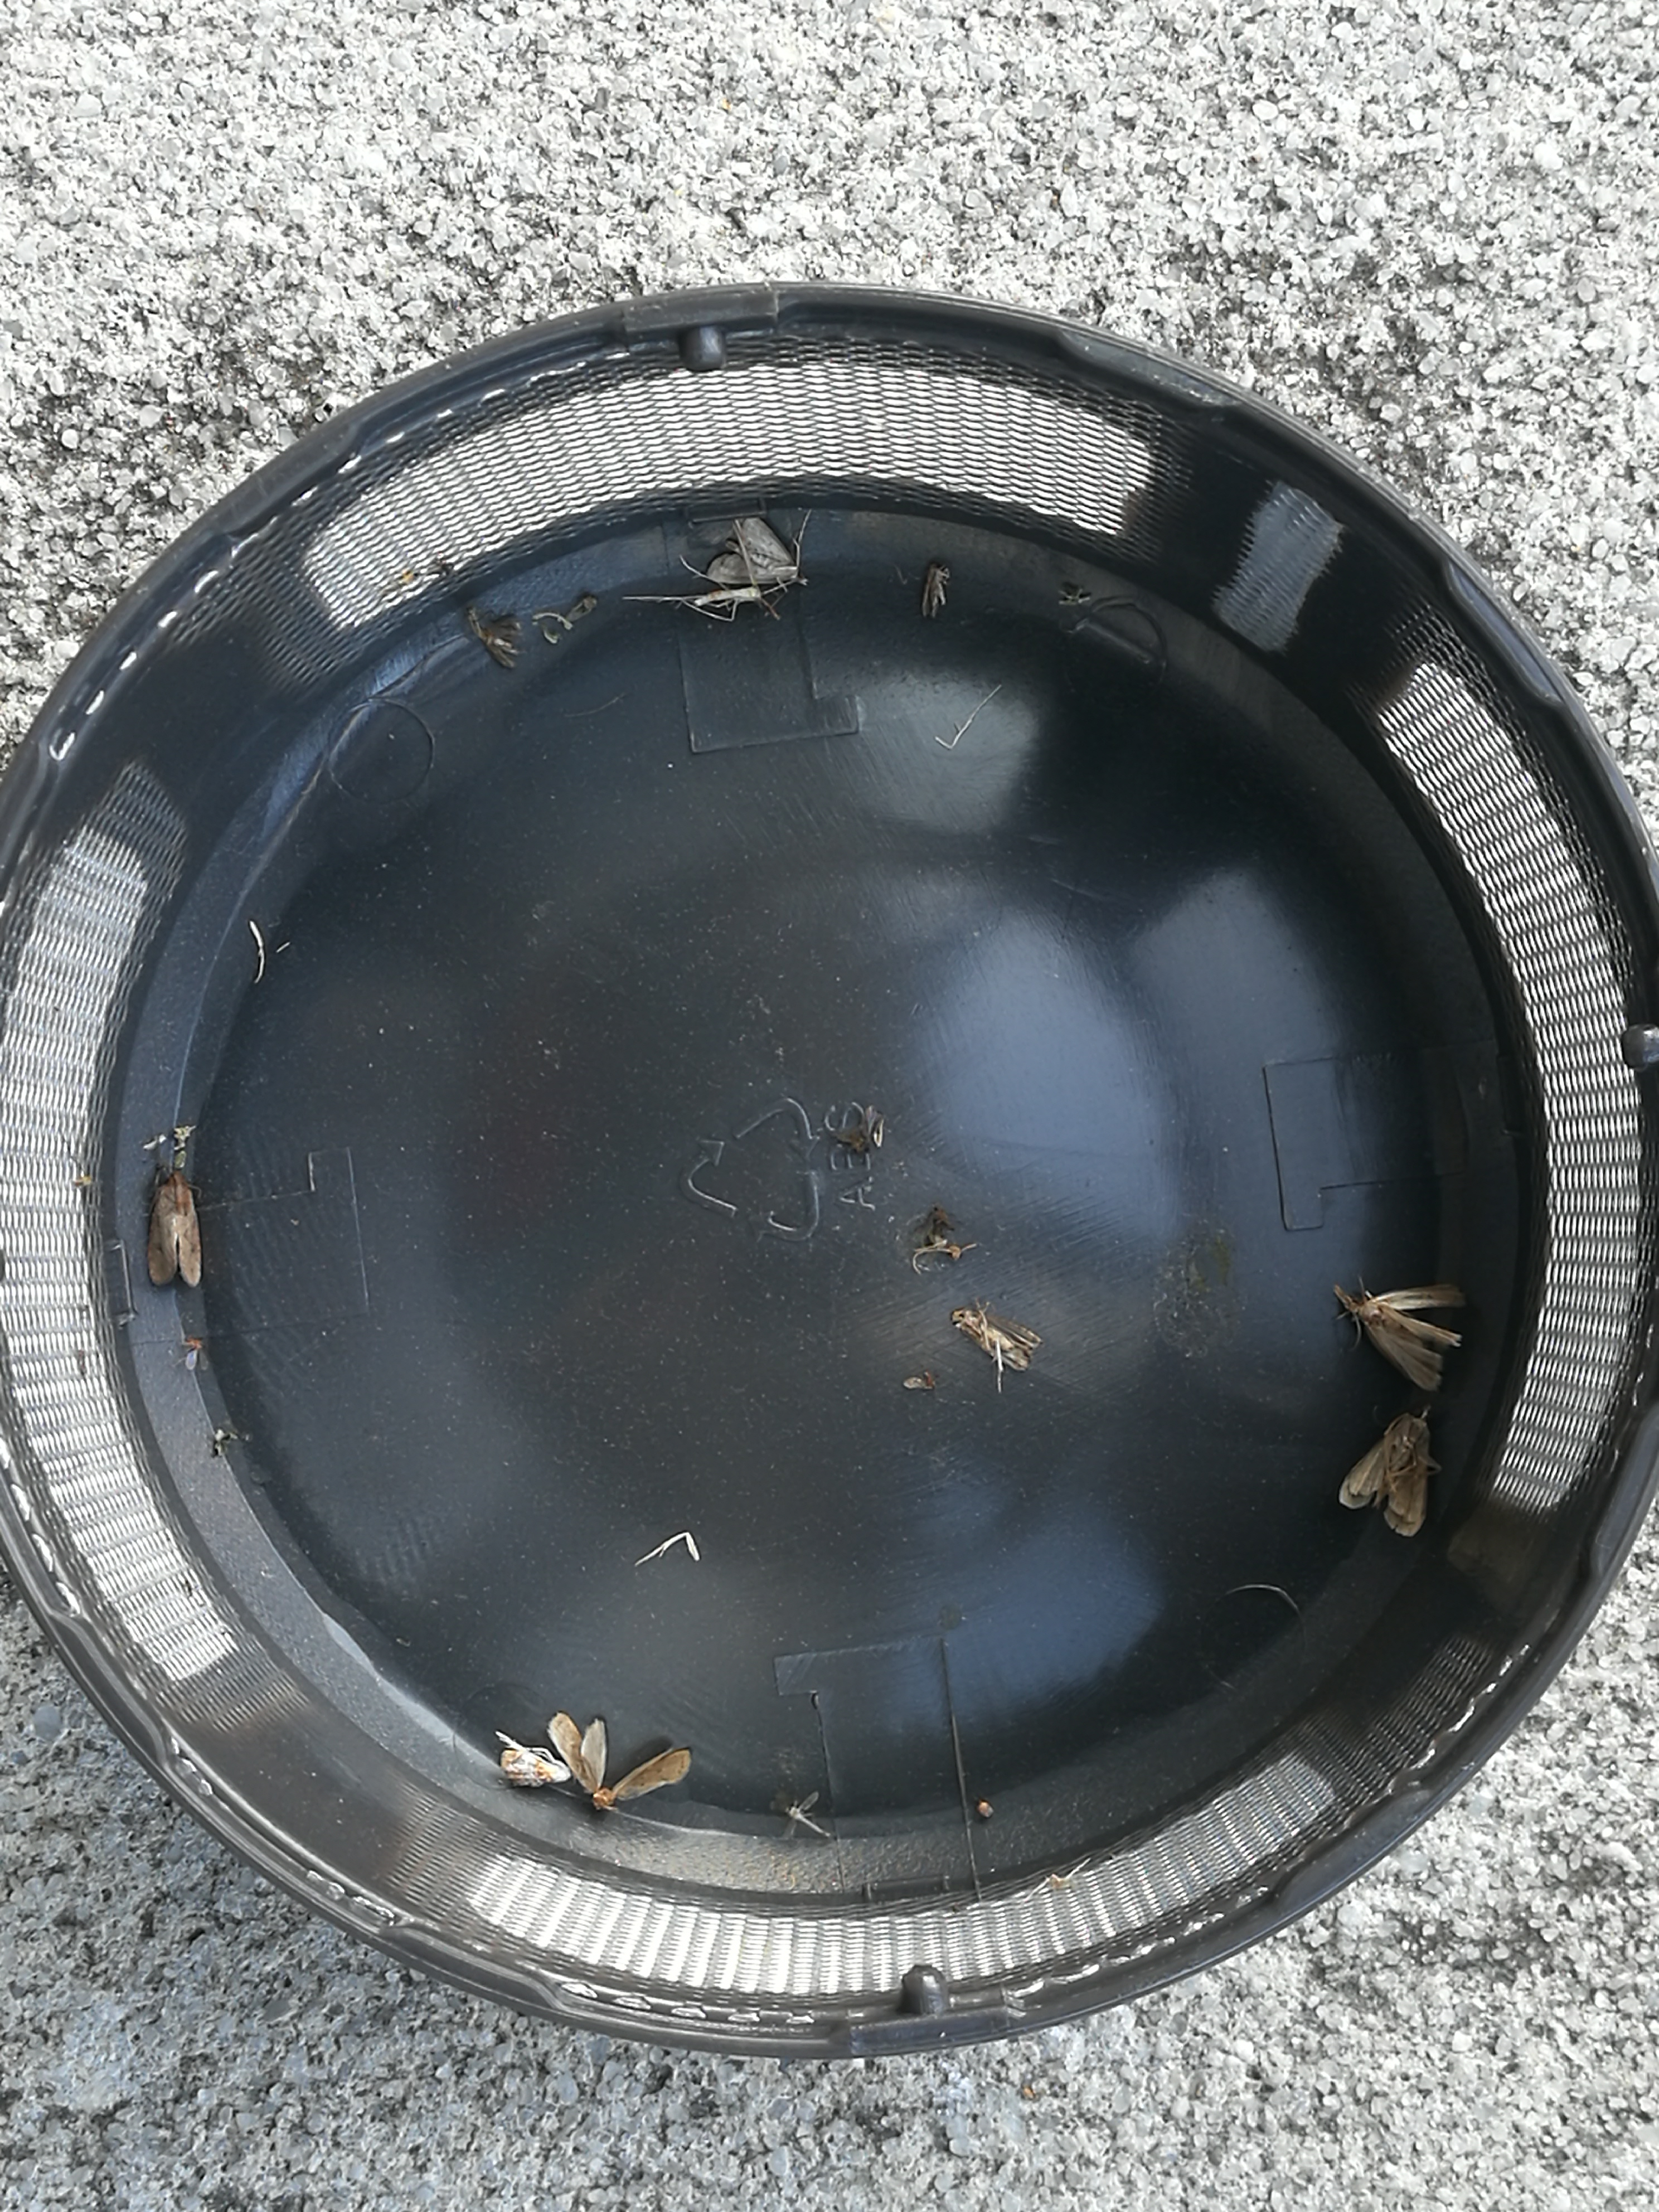mosquito: (951, 1310, 1028, 1372)
moth: (547, 1712, 690, 1808), (1358, 1284, 1466, 1392), (1338, 1414, 1429, 1536), (148, 1176, 202, 1284), (709, 519, 796, 585), (500, 1749, 568, 1784), (483, 617, 521, 669)
